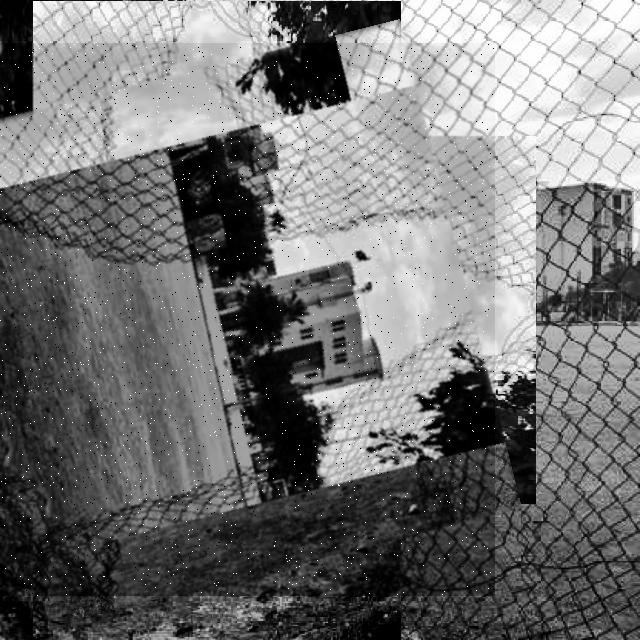anomaly-fence: (0, 43, 495, 596)
